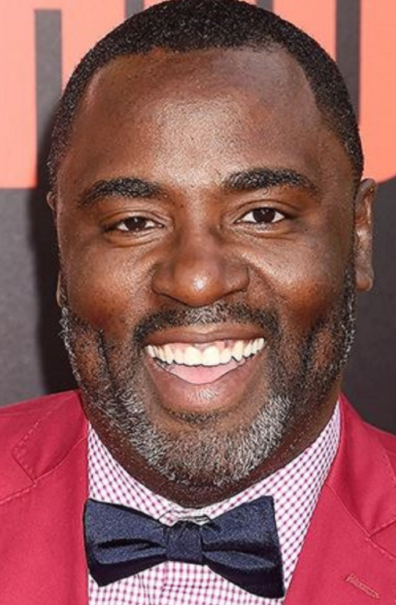No Mask: (73, 248, 353, 486)
